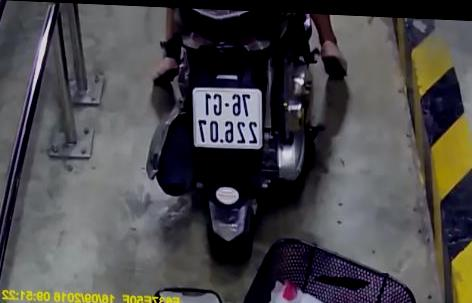License_Plate: (187, 80, 269, 157)
